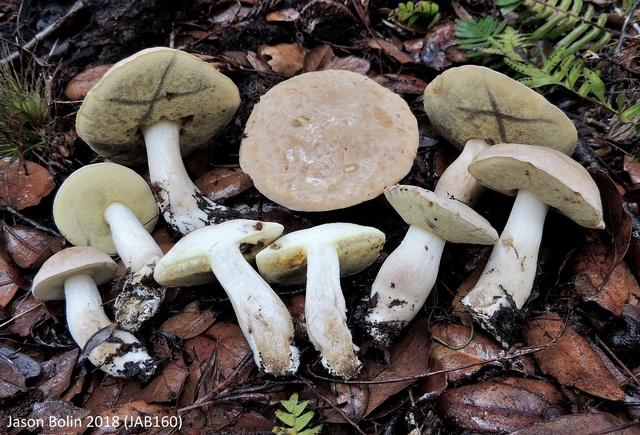Edible Mushroom: (74, 45, 241, 235), (460, 141, 605, 337), (237, 67, 419, 212), (426, 58, 577, 215), (152, 217, 298, 376), (362, 183, 499, 350), (254, 220, 385, 378), (30, 244, 158, 381)
